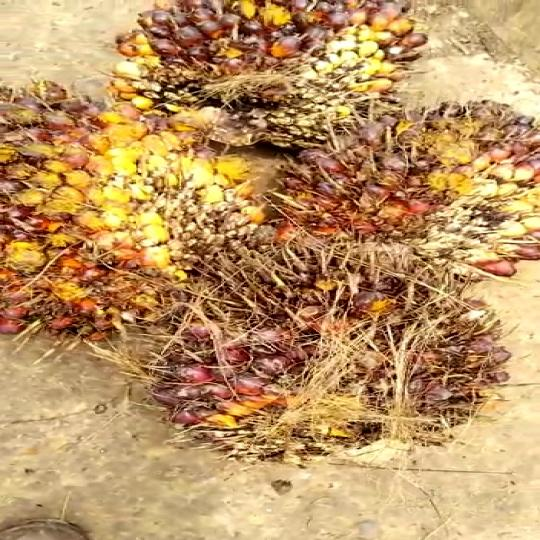masak: (151, 235, 480, 446), (0, 78, 239, 320), (92, 0, 419, 150), (265, 100, 540, 262)
